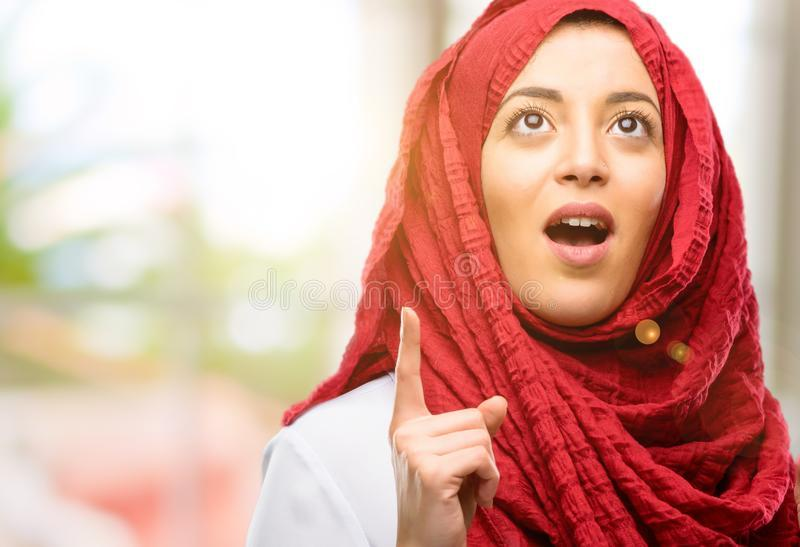No Mask: (454, 6, 721, 392)
